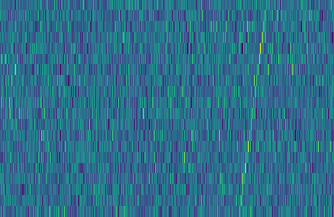signal: (236, 0, 274, 217)
